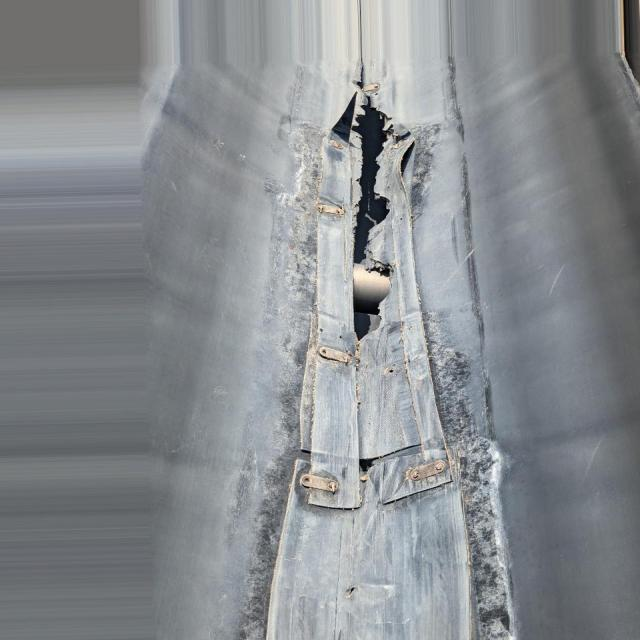Hole: (351, 110, 396, 343)
patch work: (264, 93, 480, 640)
